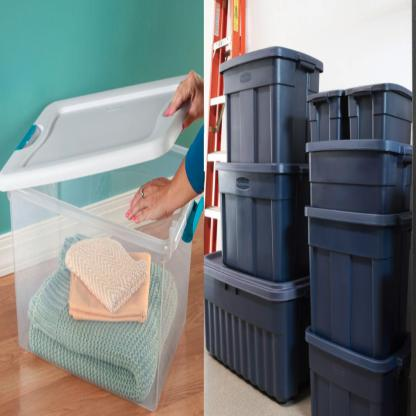plastic_box: (219, 50, 324, 166)
